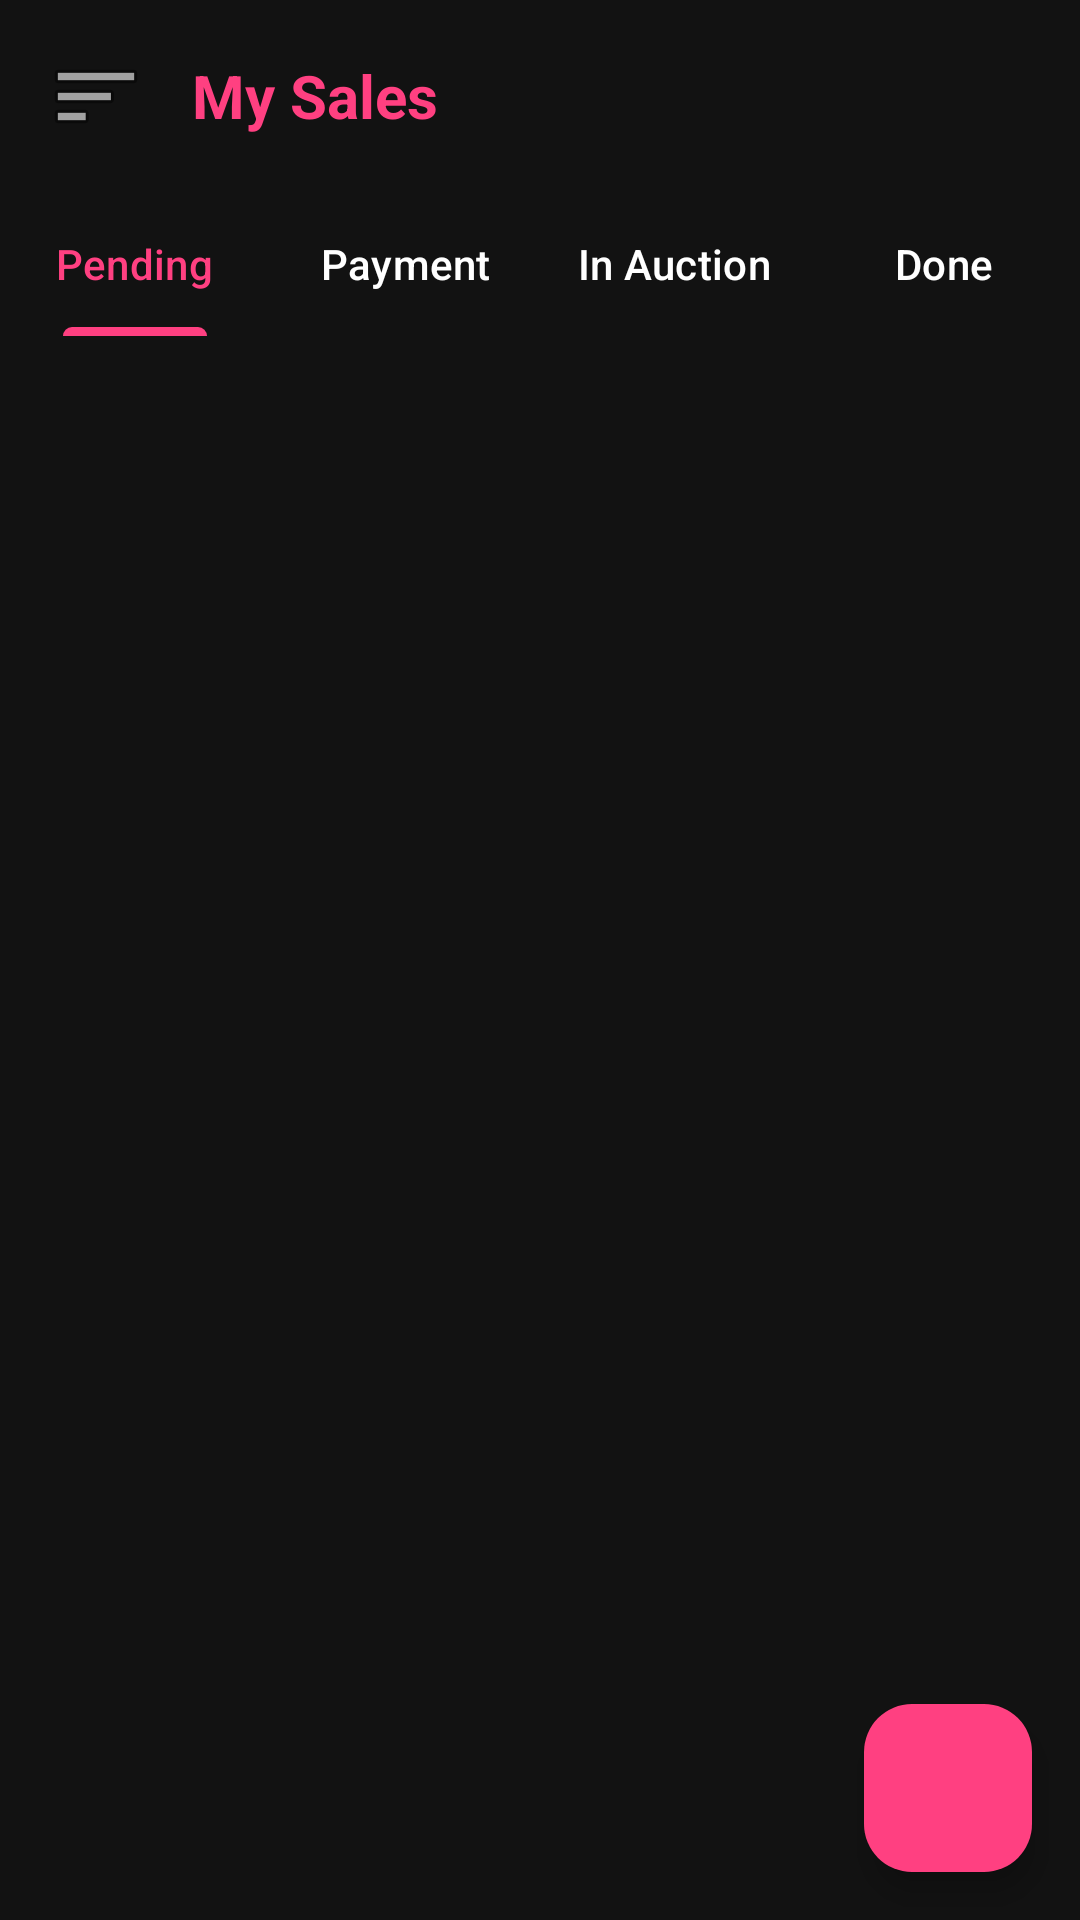

Icon click points for this 1080 × 1920 phone screenshot, format [x,y]:
Open menu: [96,96]
